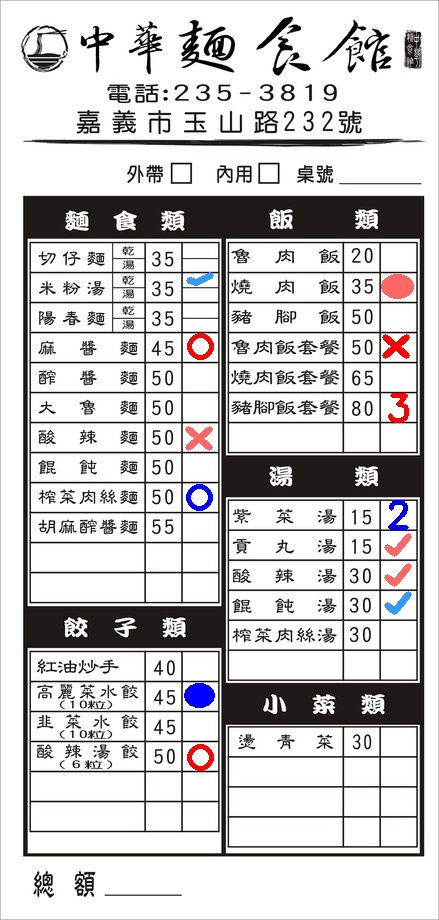marked_circle: (378, 271, 414, 300), (181, 681, 217, 710)
marked_hollow: (181, 483, 217, 512), (182, 332, 218, 361), (182, 743, 218, 772)
marked_number_2: (381, 500, 417, 529)
marked_number_3: (381, 393, 417, 422)
marked_tick: (380, 589, 416, 618), (380, 561, 416, 590), (380, 531, 416, 560), (183, 273, 217, 286)
marked_x: (181, 424, 217, 453), (378, 332, 414, 361)
